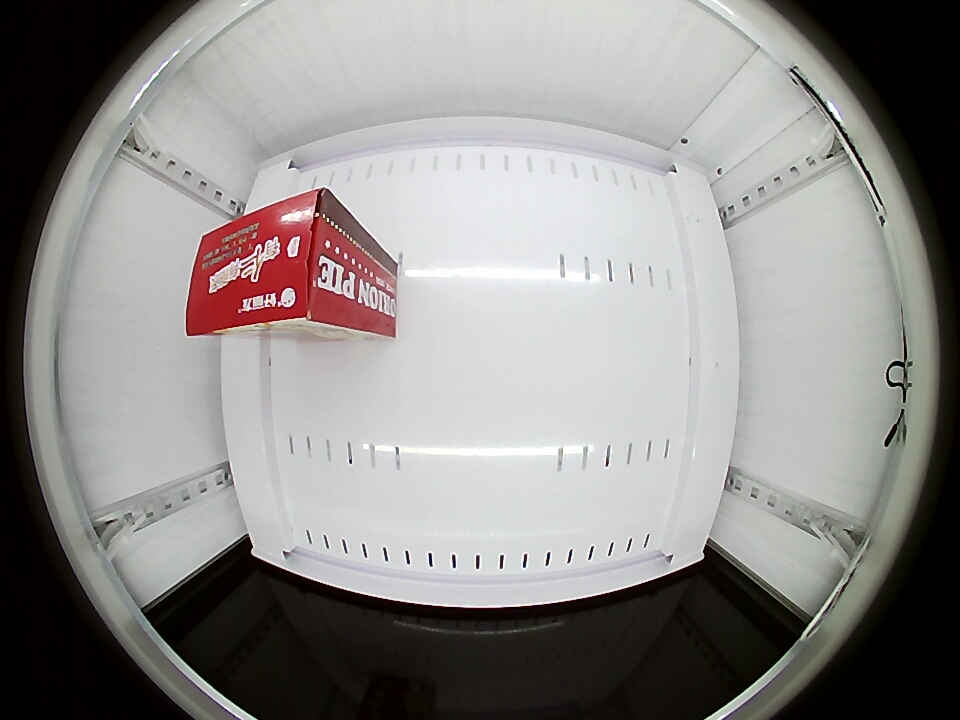haoliyou: (186, 190, 346, 336)
